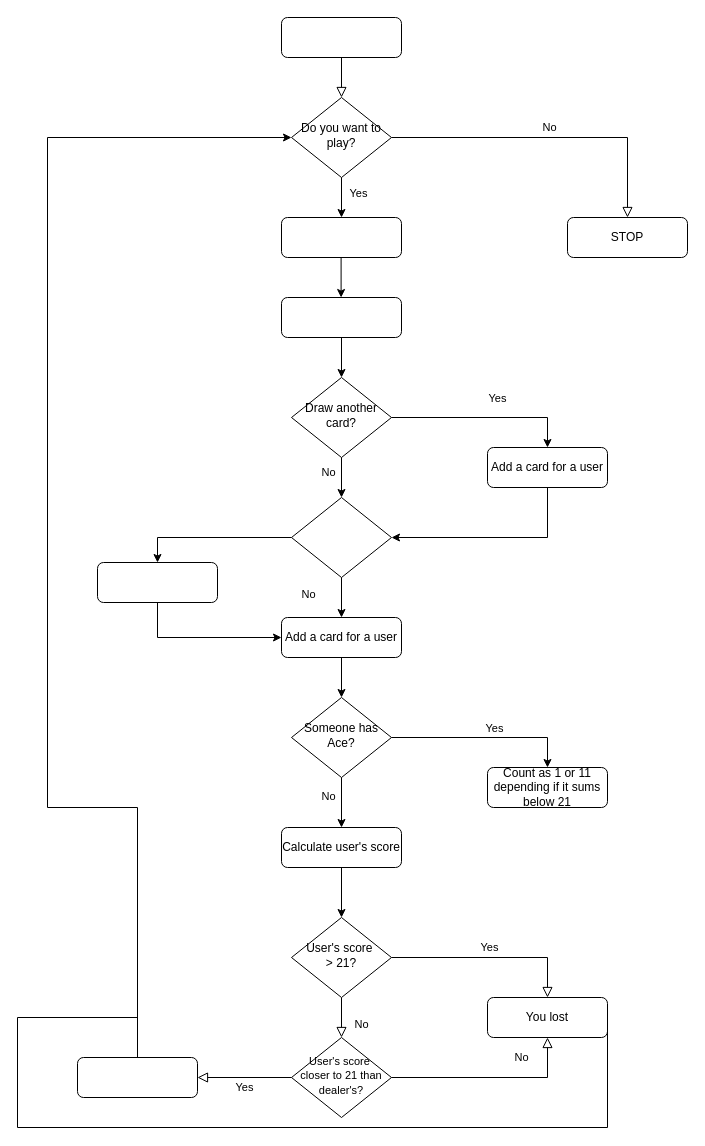
This 705x1146 diagram has some shape labels left out. The centre of each missing label's shape, as x and y in pixels:
"Add a card for a dealer" goes at (157,582).
"Dealer's hand <17?" goes at (341,537).
"Draw computer's cards and show first" goes at (341,317).
"Draw player's cards and show them" goes at (341,237).
"START" goes at (341,37).
"You won" goes at (137,1077).
